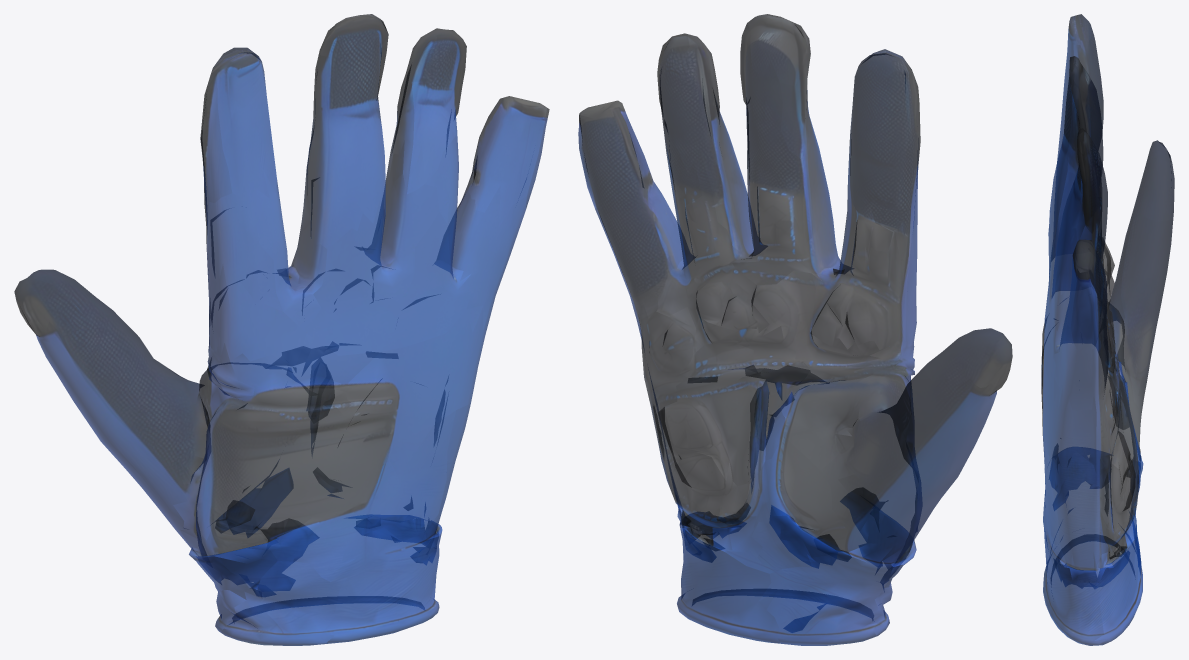
File: gloves-preview-open.glb
3 renders of one model, left to right at view 1: azimuth 30°, elevation 25°; view 2: azimuth 150°, elevation 25°; view 3: azimuth 270°, elevation 25°, orthographic. The views are drawn at different scales.
Parts seen in each view (by area): view 1: tripo_mesh_5e8ee832-072e-42f9-8edf-a4566c71d52b; view 2: tripo_mesh_5e8ee832-072e-42f9-8edf-a4566c71d52b; view 3: tripo_mesh_5e8ee832-072e-42f9-8edf-a4566c71d52b.
Boxes of the visible parts, x1,y1,x2,y2 form: tripo_mesh_5e8ee832-072e-42f9-8edf-a4566c71d52b: (14,14,549,645); tripo_mesh_5e8ee832-072e-42f9-8edf-a4566c71d52b: (578,14,1012,645); tripo_mesh_5e8ee832-072e-42f9-8edf-a4566c71d52b: (1041,14,1174,645).
Size of the model in its own units: 0.1807 by 0.2199 by 0.0485.
1 material, 1 textured.
